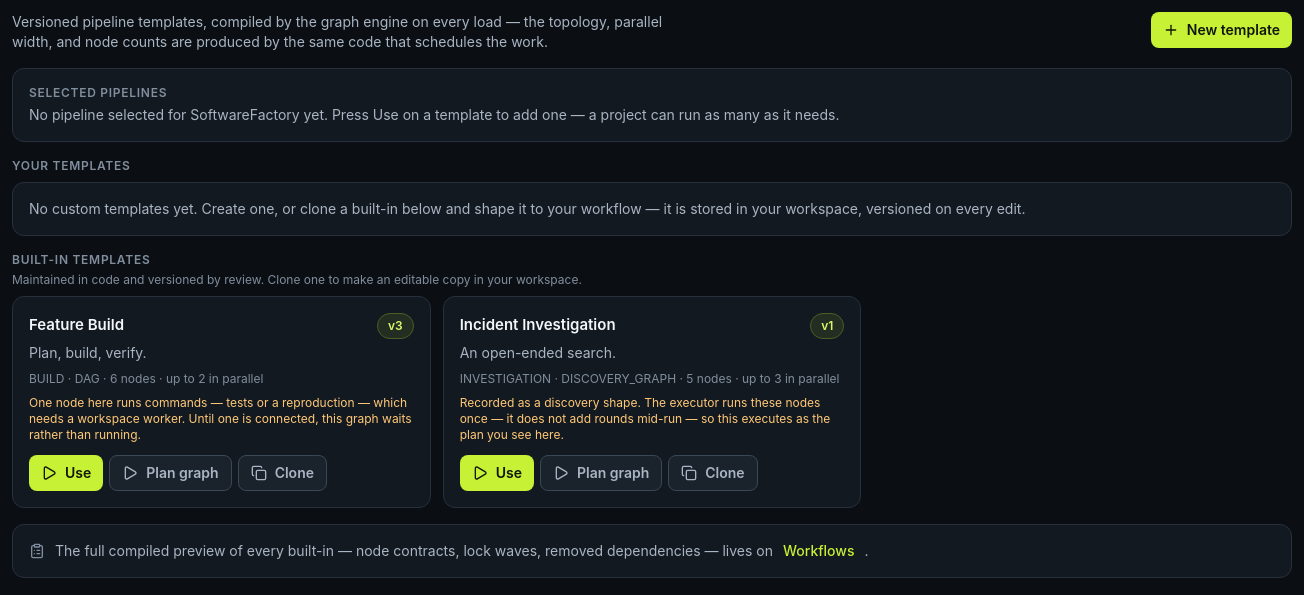
Test case: PipelineTemplatesManager › selects a template for the project and turns its Use button grey
The width and height of the screenshot is (1304, 595).
Click the button with aria-label "Use Feature Build".
click(66, 473)  # box [29, 455, 103, 491]
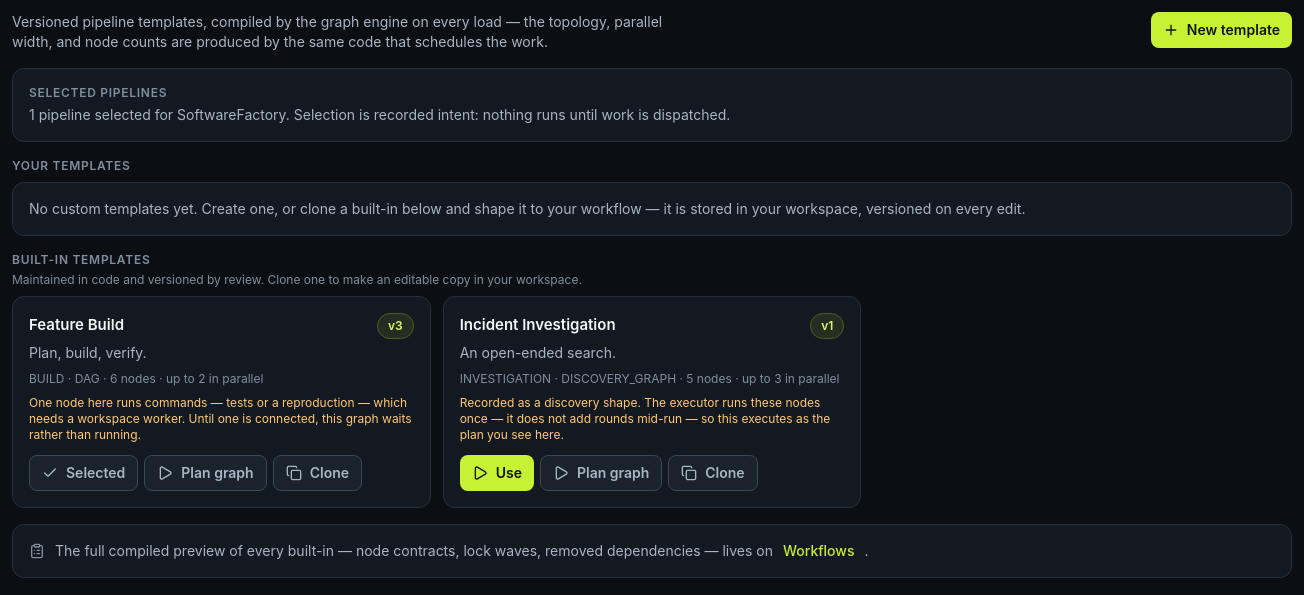
expect the button with aria-label "Stop using Feature Build" reads "Selected": met, box [29, 455, 138, 491]
expect the text "1 pipeline selected for SoftwareFactory" is shown: met, box [29, 106, 730, 123]
